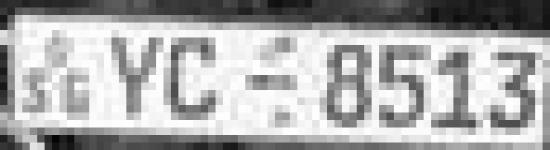-: (240, 69, 302, 99)
1: (430, 39, 486, 134)
3: (487, 39, 541, 134)
5: (376, 38, 430, 131)
8: (321, 39, 375, 132)
C: (166, 33, 224, 126)
G: (58, 68, 94, 120)
S: (19, 64, 55, 121)
Y: (108, 29, 165, 125)
